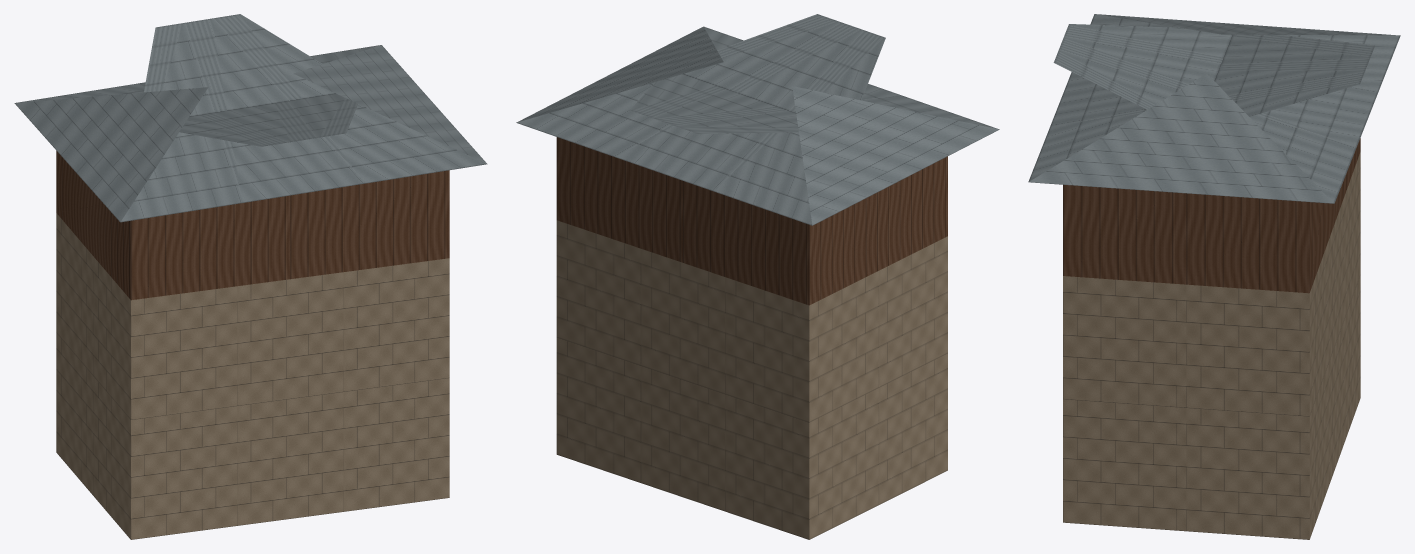
File: bld_c0_11_489.gltf
The picture shows the model from 3 angles, left to right: view 1: azimuth 30°, elevation 25°; view 2: azimuth 150°, elevation 25°; view 3: azimuth 270°, elevation 25°; orthographic projection. The views are drawn at different scales.
Parts seen in each view (by area): view 1: bld_c0_11_489; view 2: bld_c0_11_489; view 3: bld_c0_11_489.
Boxes of the visible parts, x1,y1,x2,y2 form: bld_c0_11_489: (14, 14, 487, 539); bld_c0_11_489: (516, 14, 999, 539); bld_c0_11_489: (1028, 14, 1400, 539).
Size of the model in its own units: 7.43 by 7.4 by 6.16.
Materials: 3 (3 with a texture image).
